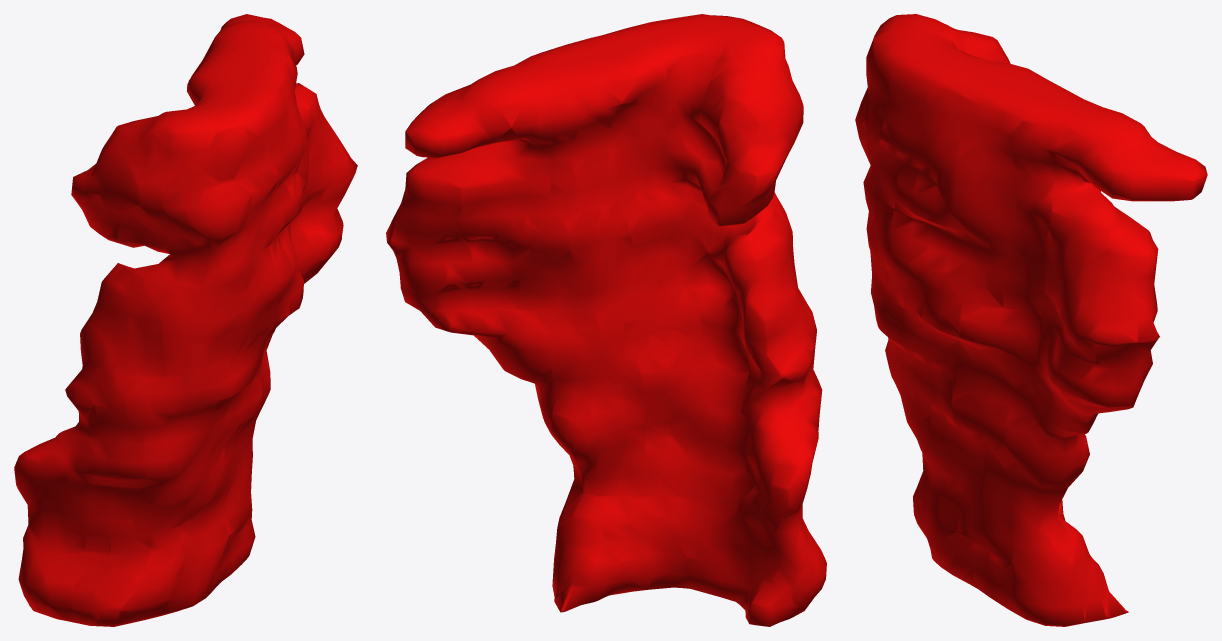
The model's file is ENT.dae.
The picture shows the model from 3 angles, left to right: view 1: azimuth 30°, elevation 25°; view 2: azimuth 150°, elevation 25°; view 3: azimuth 270°, elevation 25°; orthographic projection. The views are drawn at different scales.
Visible parts, largest first — view 1: Shape_IndexedFaceSet; view 2: Shape_IndexedFaceSet; view 3: Shape_IndexedFaceSet.
Boxes of the visible parts, x1,y1,x2,y2 form: Shape_IndexedFaceSet: [14, 14, 357, 626]; Shape_IndexedFaceSet: [386, 14, 826, 626]; Shape_IndexedFaceSet: [855, 14, 1207, 626].
Size of the model in its own units: 21.97 by 16.86 by 29.1.
